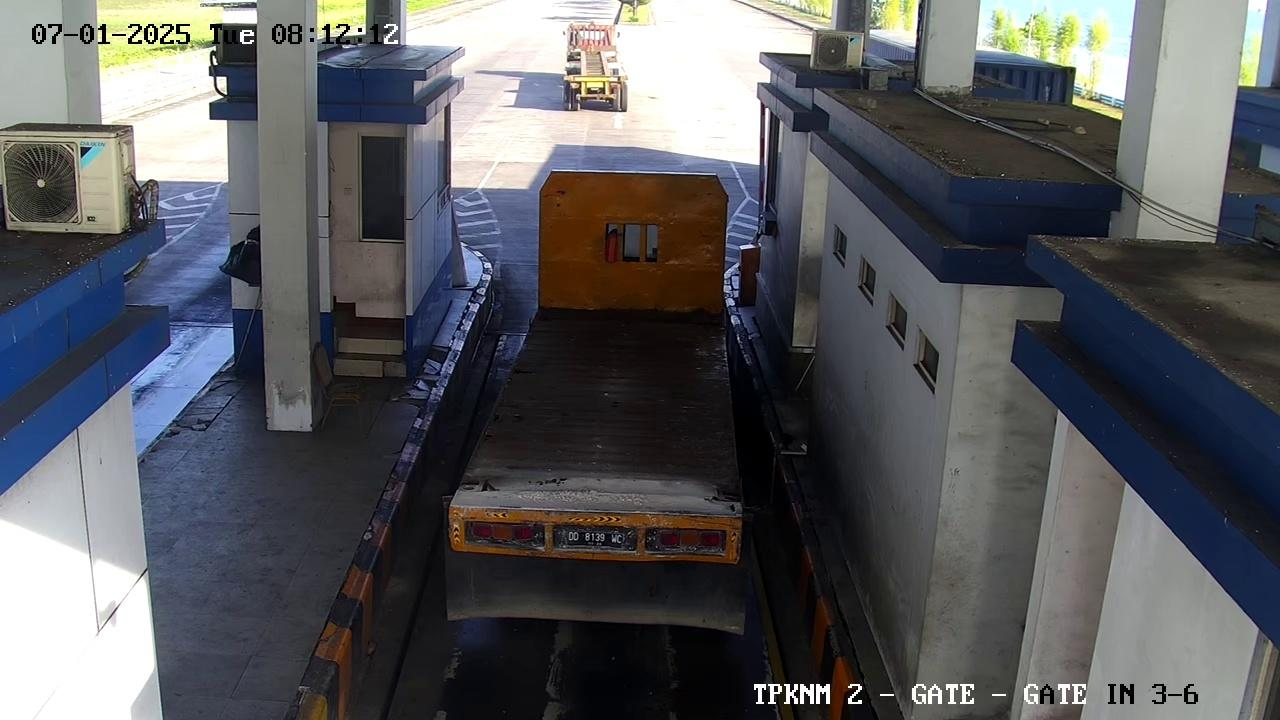plate_number: (549, 523, 631, 554)
